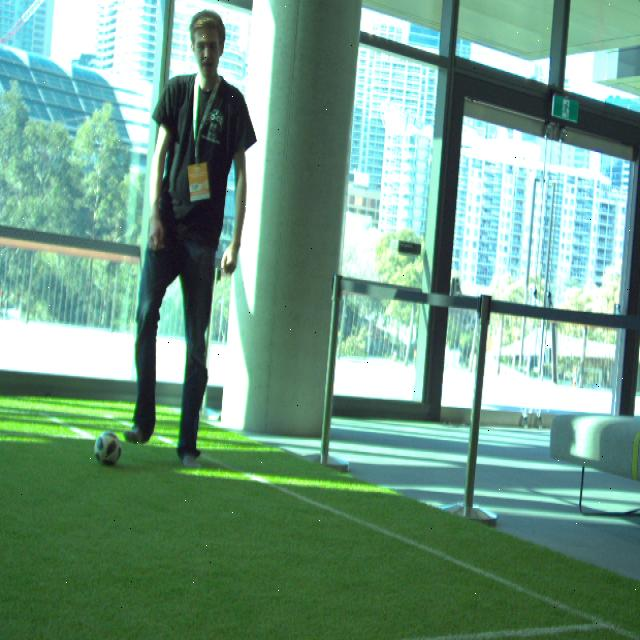ball: (94, 431, 121, 466)
